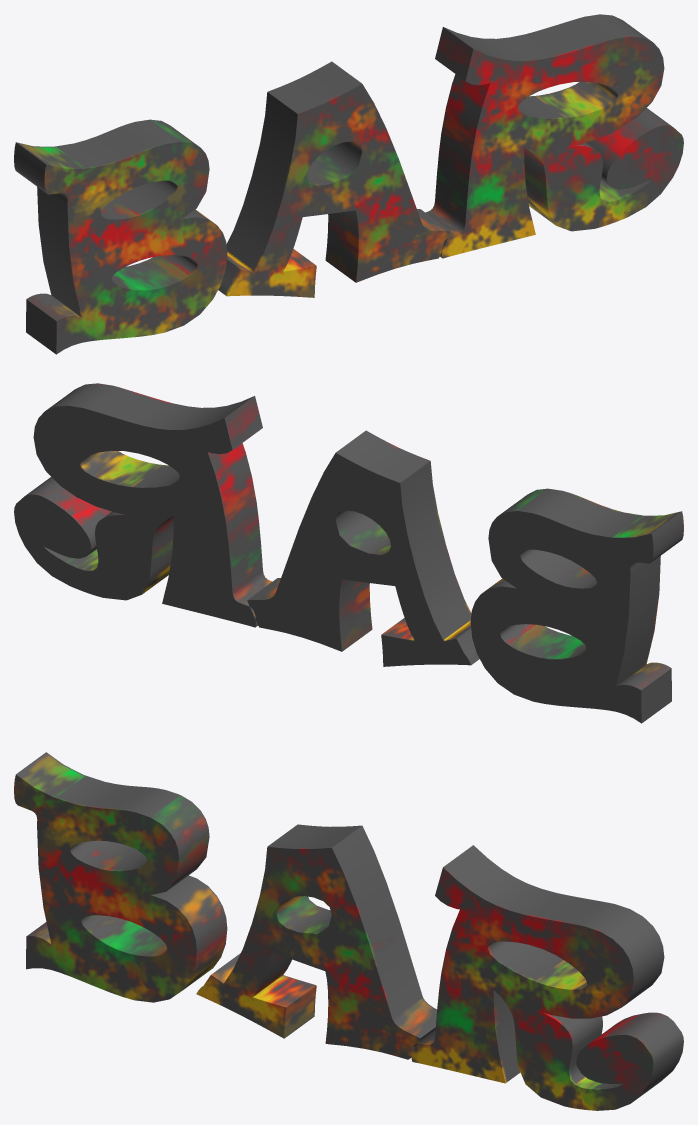
The model's file is xxx.fbx.
3 renders of one model, top to bottom at view 1: azimuth 30°, elevation 25°; view 2: azimuth 150°, elevation 25°; view 3: azimuth 330°, elevation 25°, orthographic.
Parts seen in each view (by area): view 1: node_id9; view 2: node_id9; view 3: node_id9.
Part boxes in pixels (x1,y1,x2,y2): node_id9: [14, 14, 683, 354]; node_id9: [14, 383, 683, 723]; node_id9: [14, 752, 683, 1110].
Bounding box in the file's own units: 0.3653 × 0.1147 × 0.0302.
1 material, 1 textured.
